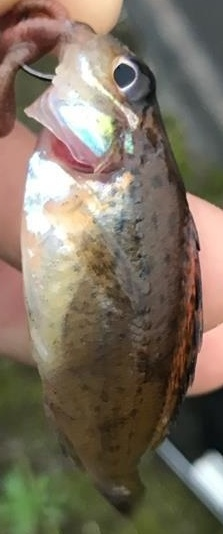Gymnocephalus cernuus: (20, 20, 203, 514)
